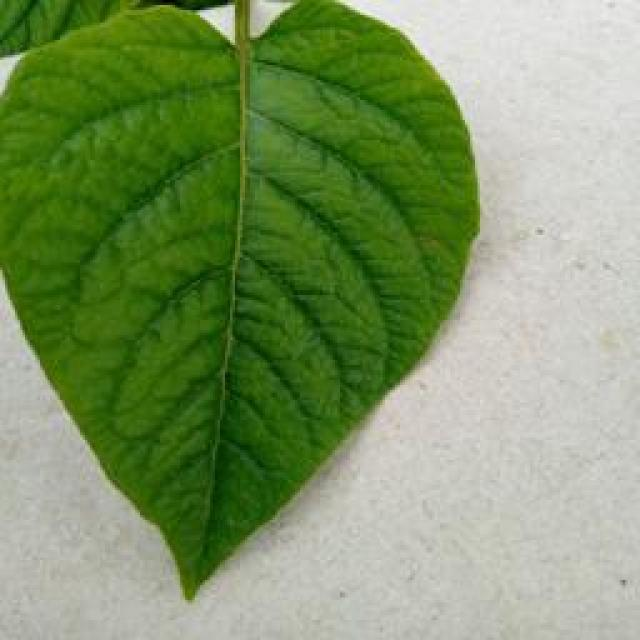healthy: (0, 0, 485, 602)
